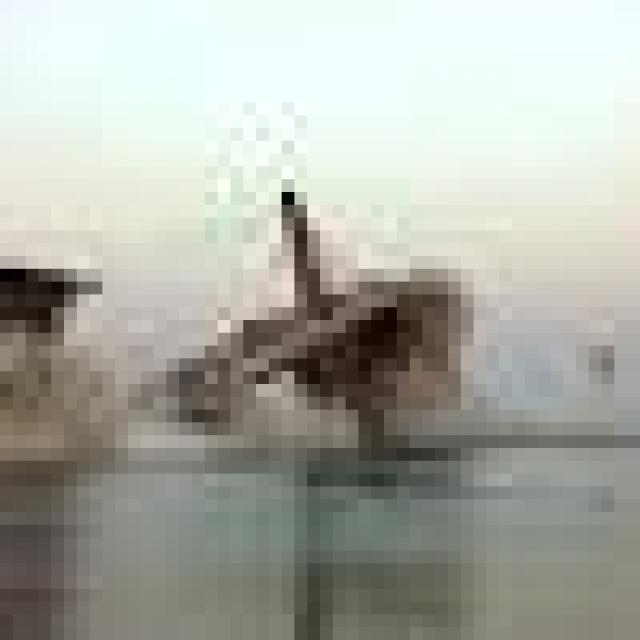bridge collapse: (0, 13, 640, 614)
